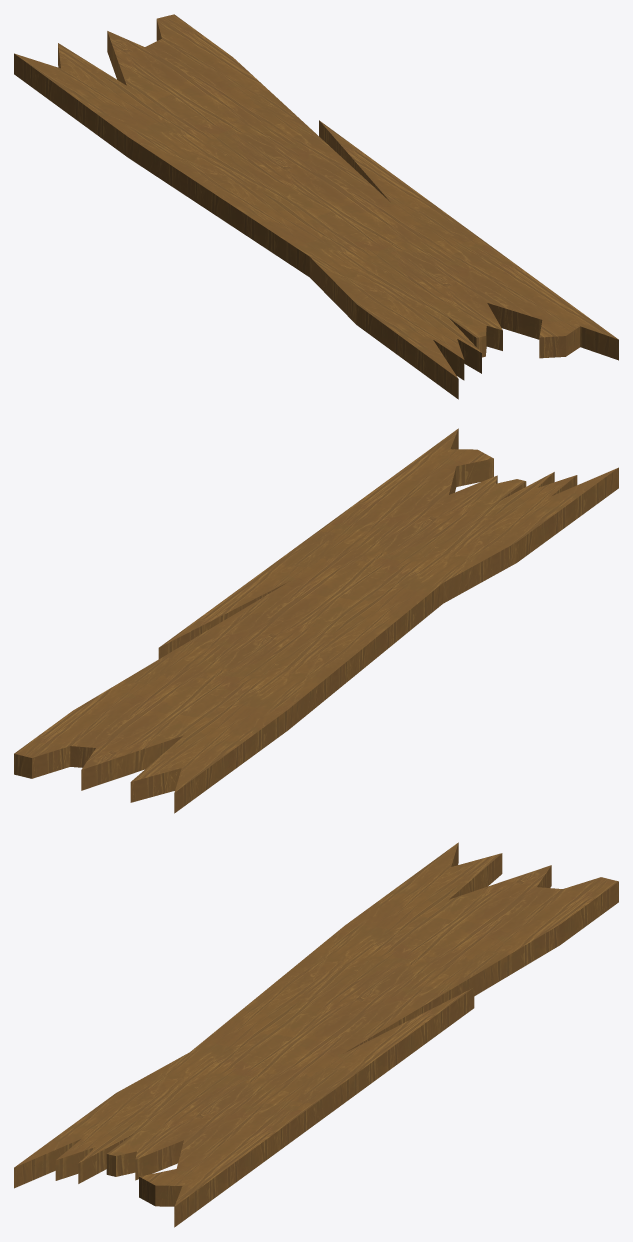
Rendered from plank.glb.
3 renders of one model, top to bottom at view 1: azimuth 30°, elevation 25°; view 2: azimuth 150°, elevation 25°; view 3: azimuth 330°, elevation 25°, orthographic.
Visible parts, largest first — view 1: Plane; view 2: Plane; view 3: Plane.
Part boxes in pixels (x1,y1,x2,y2): Plane: (14, 14, 618, 399); Plane: (14, 428, 618, 813); Plane: (14, 842, 618, 1227).
Size of the model in its own units: 2 by 0.2482 by 9.6.
1 material, 1 textured.
